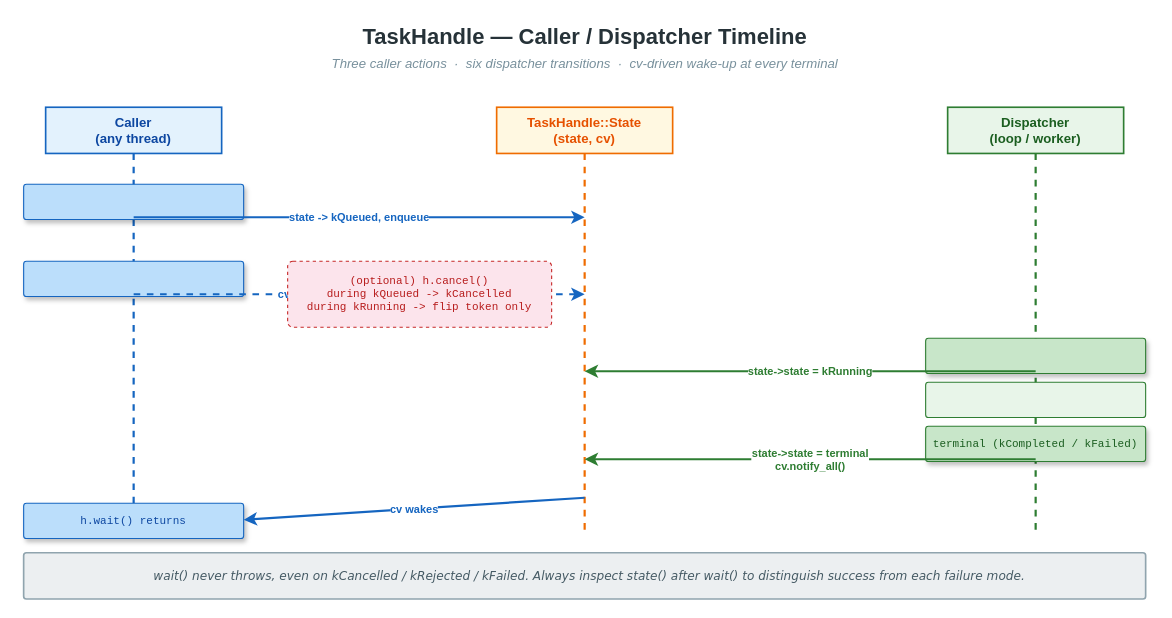
The diagram is 1172 pixels wide and 618 high, and some of its shapes have lost their labels. The centre of each missing label's shape, as x and y in pixels:
"auto h = ...; h.wait();" goes at (x=134, y=280).
"dequeue, kRunning" goes at (x=1036, y=357).
"post_task_handle(cb, opts)" goes at (x=134, y=203).
"run callback" goes at (x=1035, y=399).
